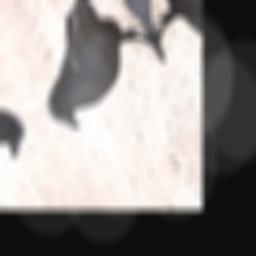Crow: (3, 0, 174, 140)
